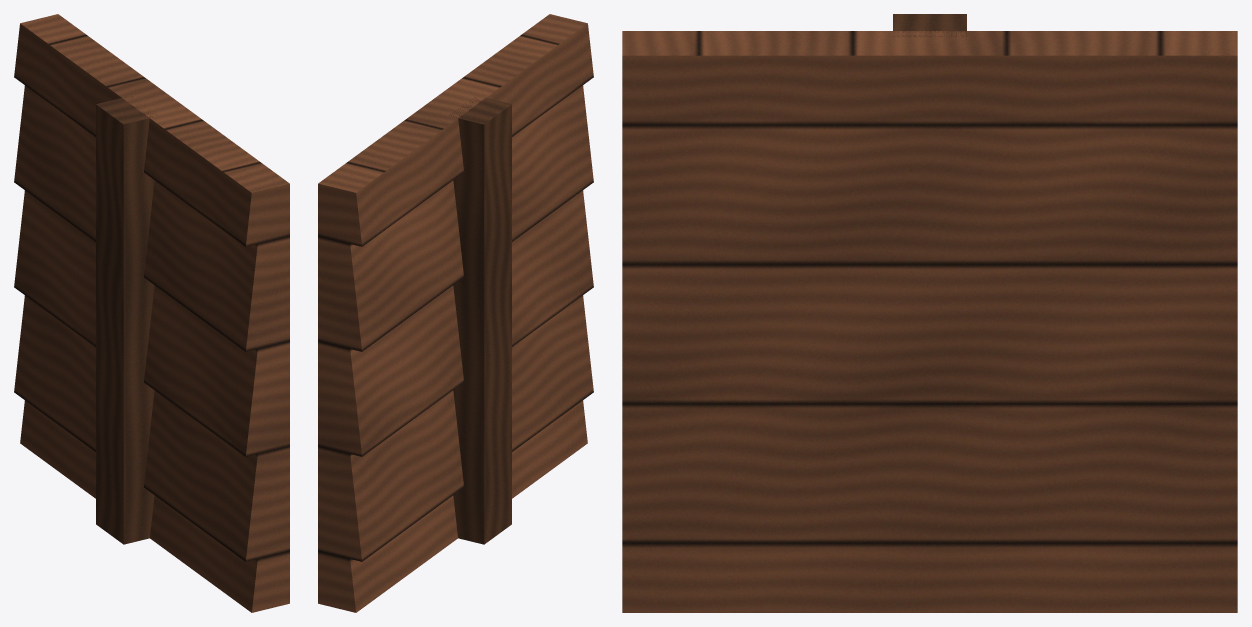
The model's file is HullSide_1x1x1.fbx.
3 views of the same model, side by side, from view 1: azimuth 30°, elevation 25°; view 2: azimuth 150°, elevation 25°; view 3: azimuth 270°, elevation 25° (orthographic). The views are drawn at different scales.
Parts seen in each view (by area): view 1: HullSide_1x1x1; view 2: HullSide_1x1x1; view 3: HullSide_1x1x1.
Part boxes in pixels (x1=…): HullSide_1x1x1: x1=14, y1=14, x2=289, y2=612; HullSide_1x1x1: x1=318, y1=14, x2=593, y2=612; HullSide_1x1x1: x1=622, y1=14, x2=1237, y2=612.
Bounding box in the file's own units: 0.16 × 1 × 1.
Materials: 1 (1 with a texture image).
